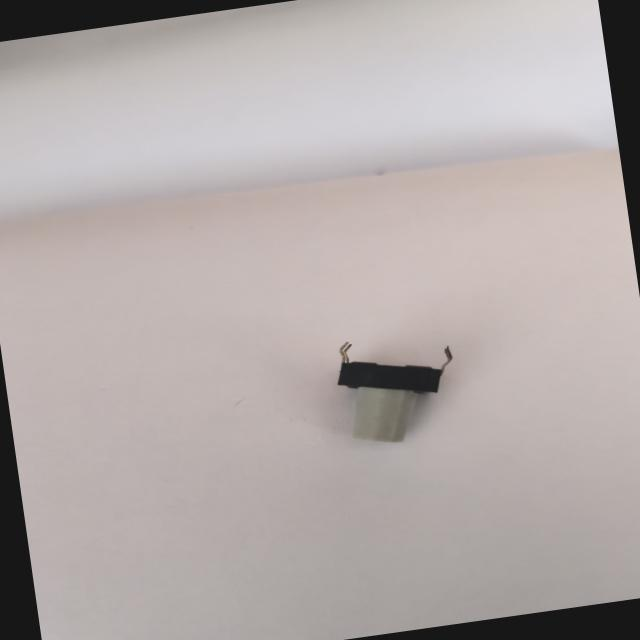switch: (288, 318, 492, 468)
